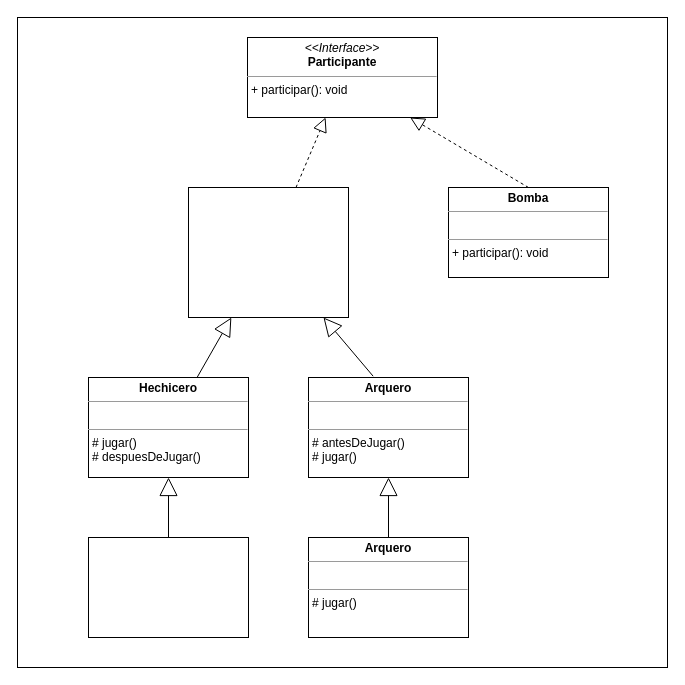
This 685x685 diagram has some shape labels left out. Here are the shapes that lost their labels. From the top down, the box of each, then its label:
(188, 186, 348, 318): Personaje + participar(): void # antesDeJugar () # jugar() # despuesDeJugar ()
(88, 536, 248, 638): HechiceroSupremo # antesDeJugar()
